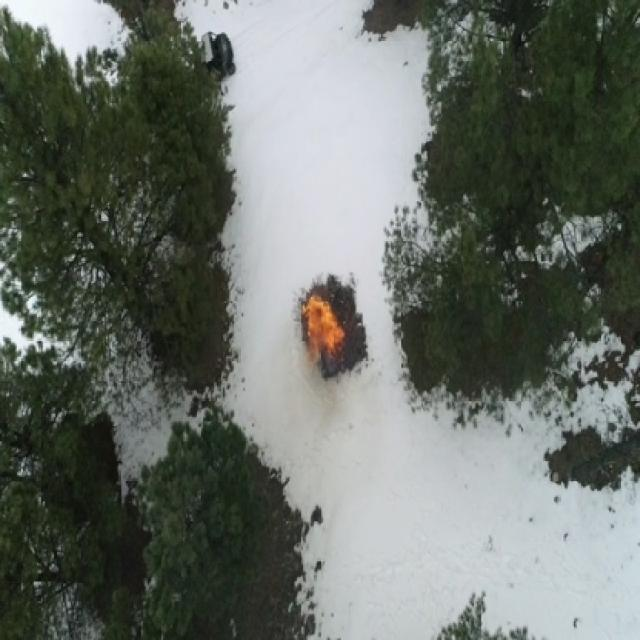Fire: (300, 292, 346, 370)
